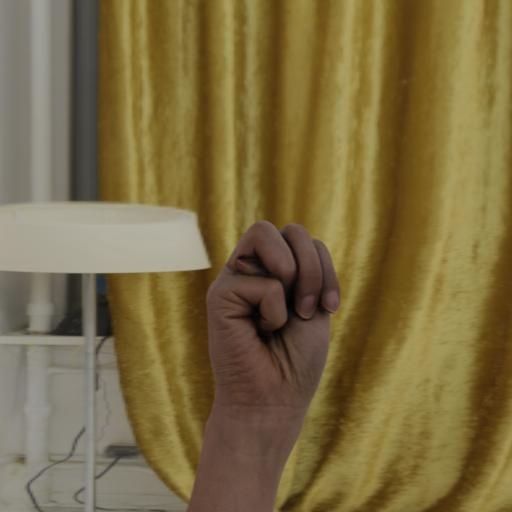M: (199, 210, 348, 445)
